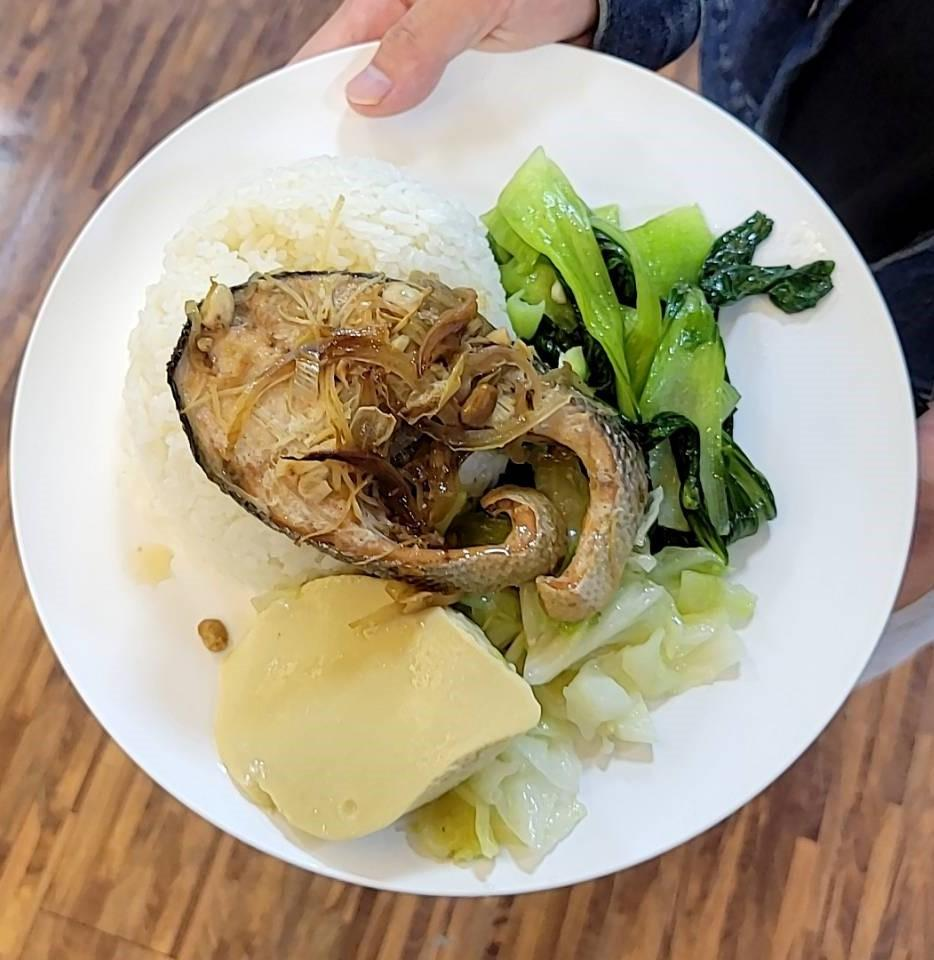big fried chicken leg: (8, 36, 934, 907)
big herbal chicken leg: (128, 156, 507, 594)
braised fish fillet: (484, 155, 835, 548), (424, 544, 746, 869), (208, 574, 538, 851)
brown rice: (162, 266, 643, 615)
